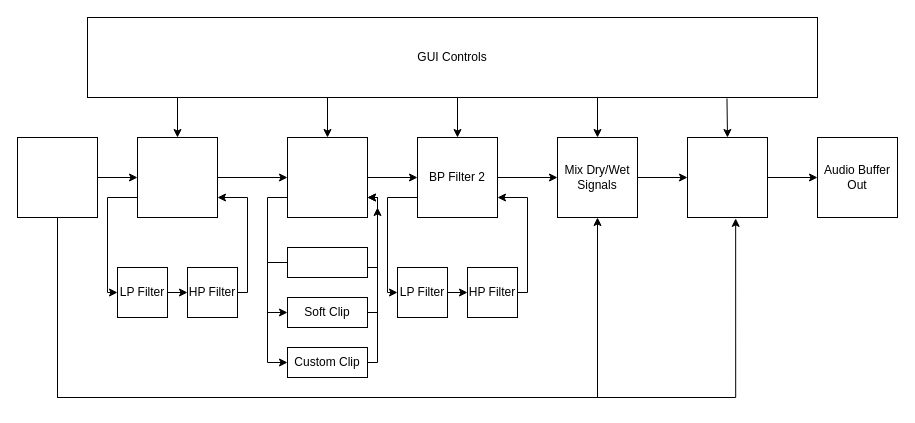
The diagram is 915 pixels wide and 423 high, and some of its shapes have lost their labels. The shapes that lost their labels are listed below. From the top down, each one's centre as x and y in pixels, then its label:
At [57,177]: "Audio Buffer In".
At [177,177]: "BP Filter 1".
At [327,177]: "Clipper".
At [727,177]: "Gain Match".
At [327,262]: "Hard Clip".
